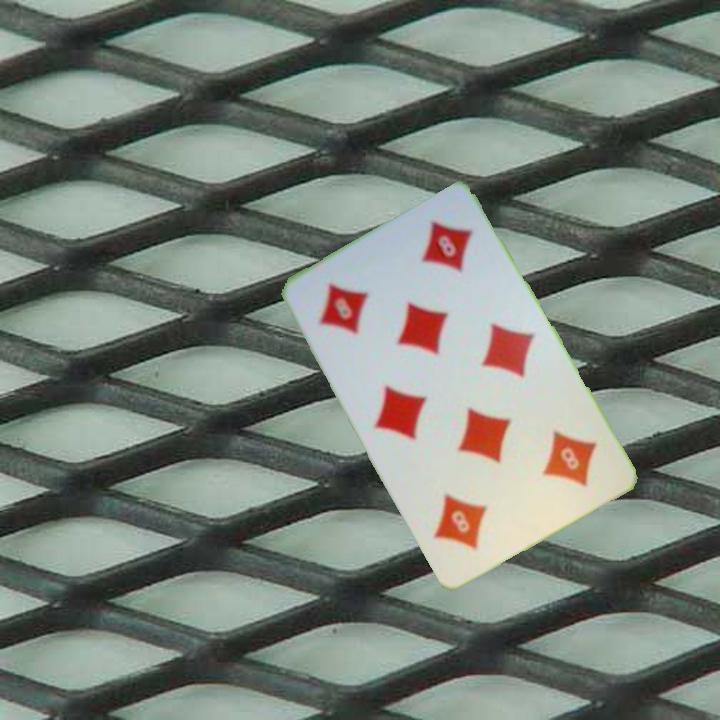d_8.png: (294, 245, 421, 367), (493, 403, 620, 525)
